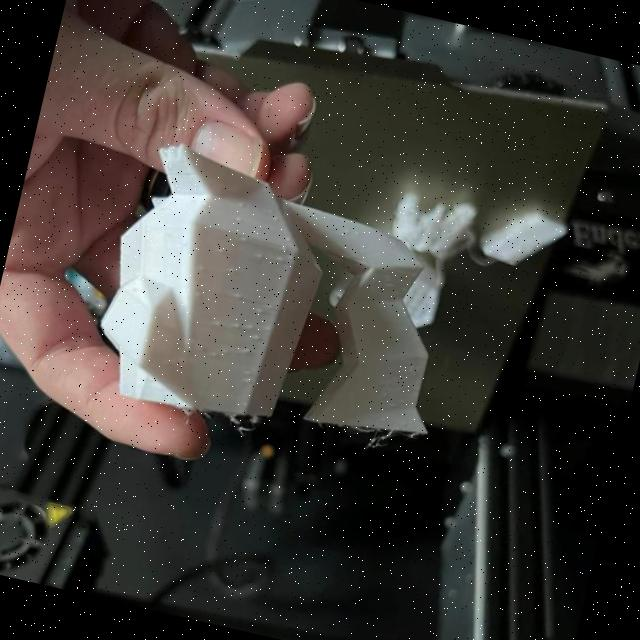blobs: (239, 372, 257, 389), (238, 341, 254, 358), (223, 262, 238, 276), (228, 318, 242, 332), (250, 302, 264, 316), (238, 232, 252, 245), (211, 244, 226, 256), (209, 316, 222, 329), (250, 330, 263, 343), (272, 252, 284, 266), (206, 347, 218, 359), (268, 212, 280, 224), (233, 288, 244, 300), (231, 214, 243, 225), (277, 242, 289, 252), (245, 322, 255, 333), (254, 252, 264, 260)
